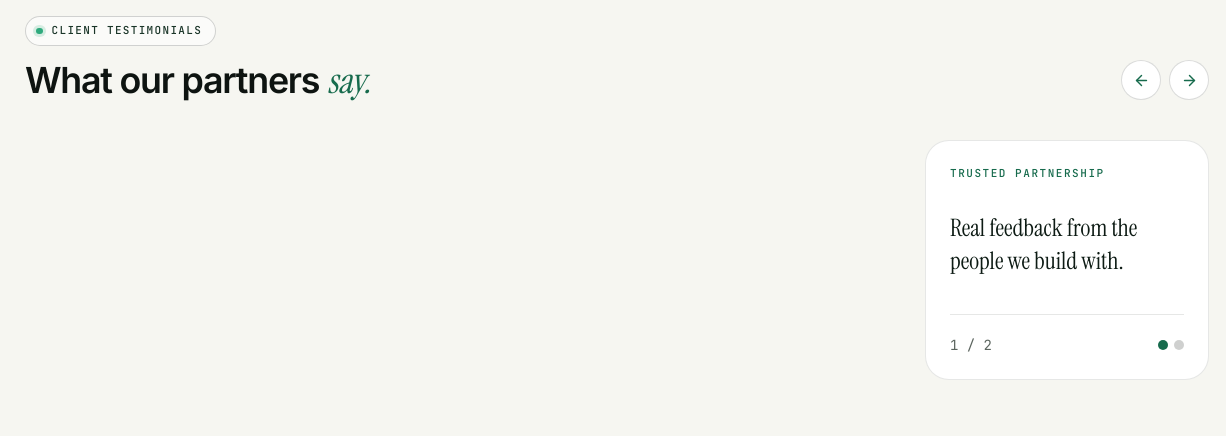
it: TestimonialsSection › shows published testimonials in an interactive carousel only
Click the button named "Next testimonial". click: (1189, 80)
box: [1169,60,1209,100]
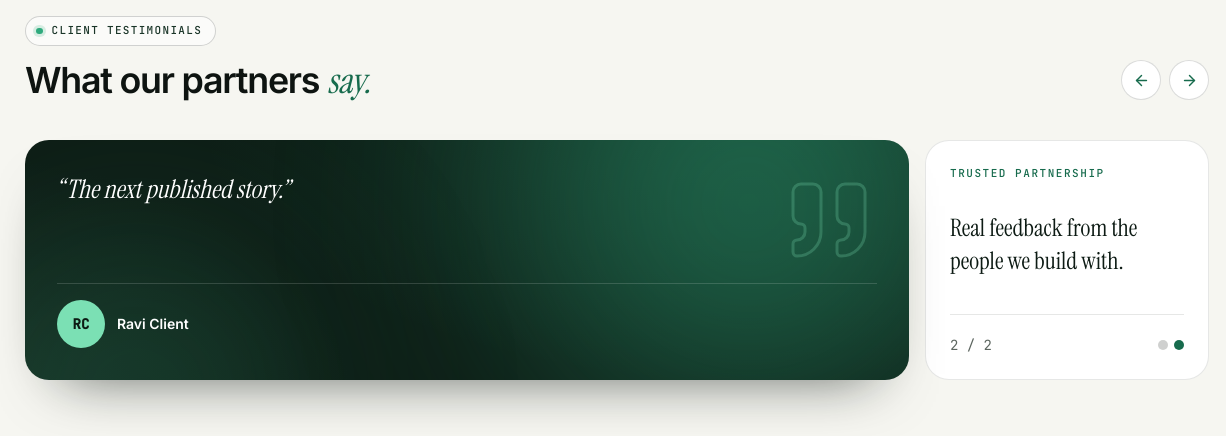
expect the text "“The next published story.”" is shown: met, box [57,173,290,206]
expect the text "2 / 2" is shown: met, box [950,335,992,355]
